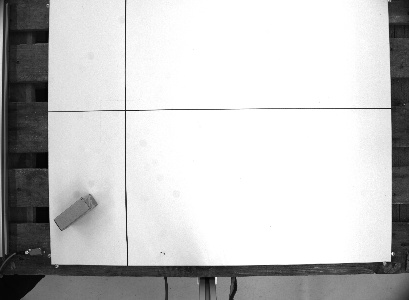b1: (52, 191, 101, 231)
